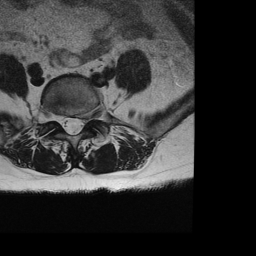CCS_normal: (68, 112, 76, 139)
LFS_normal: (83, 106, 92, 126)
LLS_normal: (77, 111, 83, 136)
RFS_normal: (51, 107, 59, 127)
RLS_normal: (60, 110, 68, 135)
